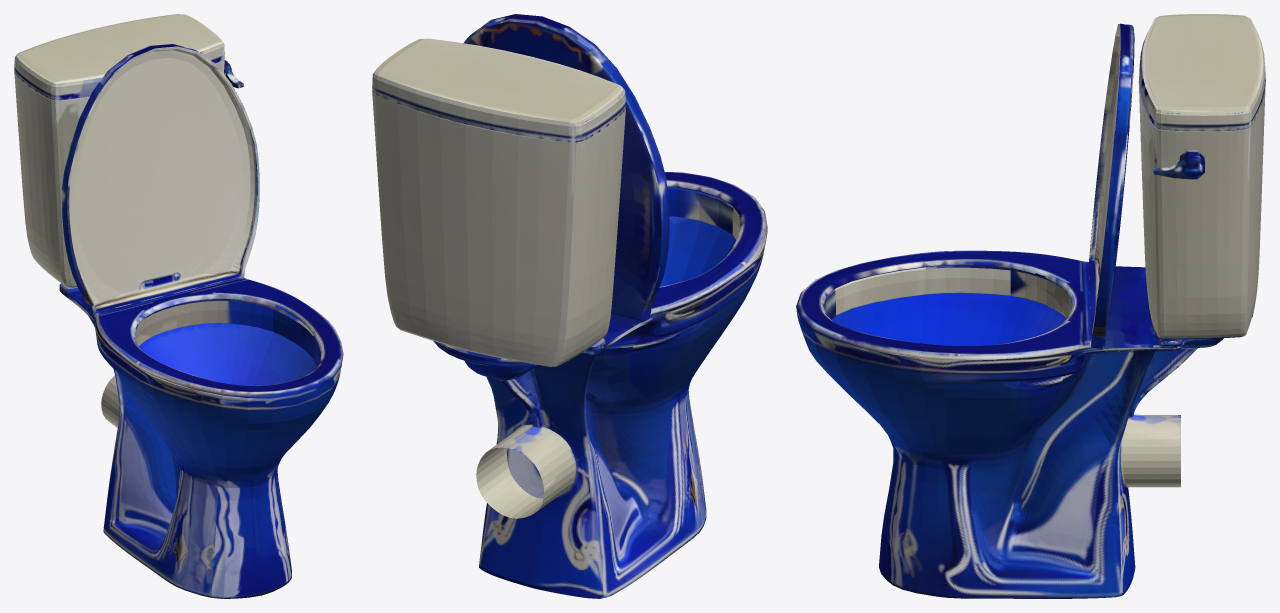
3 renders of one model, left to right at view 1: azimuth 30°, elevation 25°; view 2: azimuth 150°, elevation 25°; view 3: azimuth 270°, elevation 25°, orthographic. The views are drawn at different scales.
Parts seen in each view (by area): view 1: textured.obj; view 2: textured.obj; view 3: textured.obj.
Part boxes in pixels (x1,y1,x2,y2): textured.obj: (14, 14, 343, 598); textured.obj: (372, 14, 767, 598); textured.obj: (796, 14, 1265, 598).
Size of the model in its own units: 0.9013 by 2 by 1.59.
